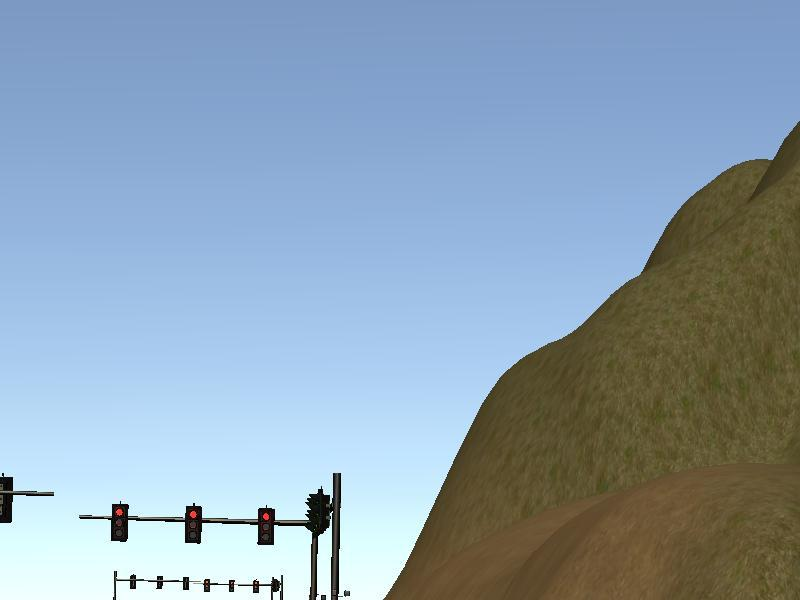Red: (110, 503, 127, 543), (184, 505, 201, 545), (257, 507, 273, 546)
